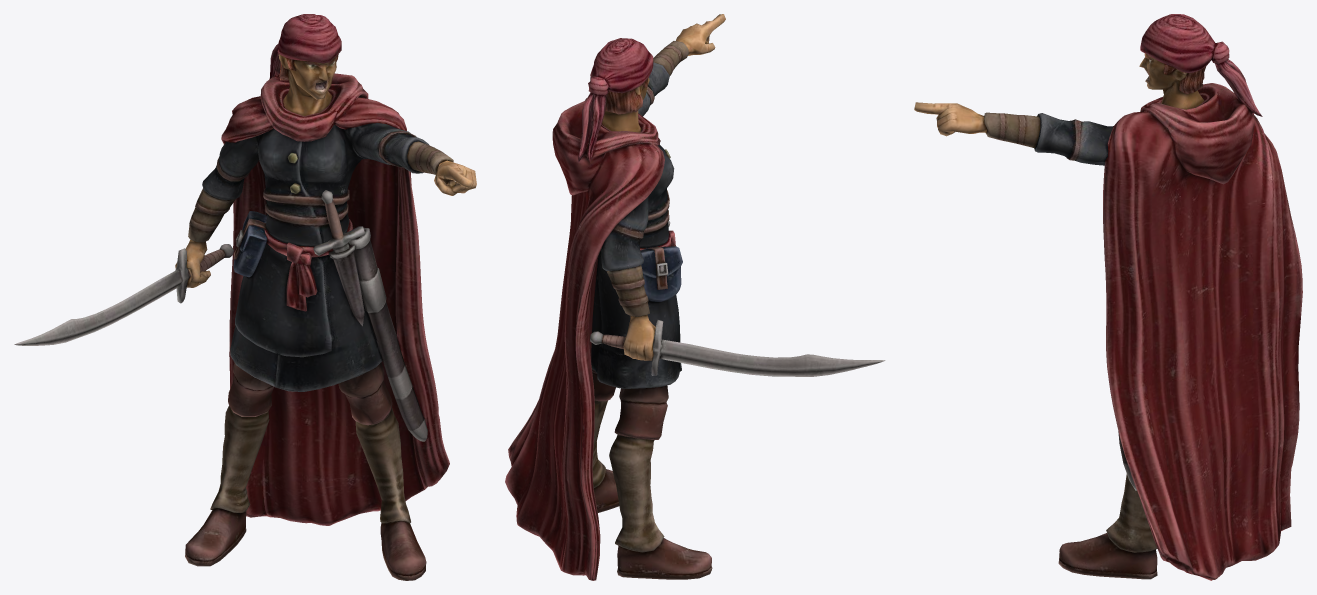
The model's file is MZ4250 - Bandit Captain Female 01.glb.
3 renders of one model, left to right at view 1: azimuth 30°, elevation 25°; view 2: azimuth 150°, elevation 25°; view 3: azimuth 270°, elevation 25°, orthographic. The views are drawn at different scales.
Parts seen in each view (by area): view 1: BanditCaptainFemale01; view 2: BanditCaptainFemale01; view 3: BanditCaptainFemale01.
Boxes of the visible parts, <box> form: BanditCaptainFemale01: <box>14,14,476,580</box>; BanditCaptainFemale01: <box>505,14,885,580</box>; BanditCaptainFemale01: <box>914,14,1302,580</box>.
Bounding box in the file's own units: 0.8823 × 1.08 × 0.7177.
1 material, 1 textured.
